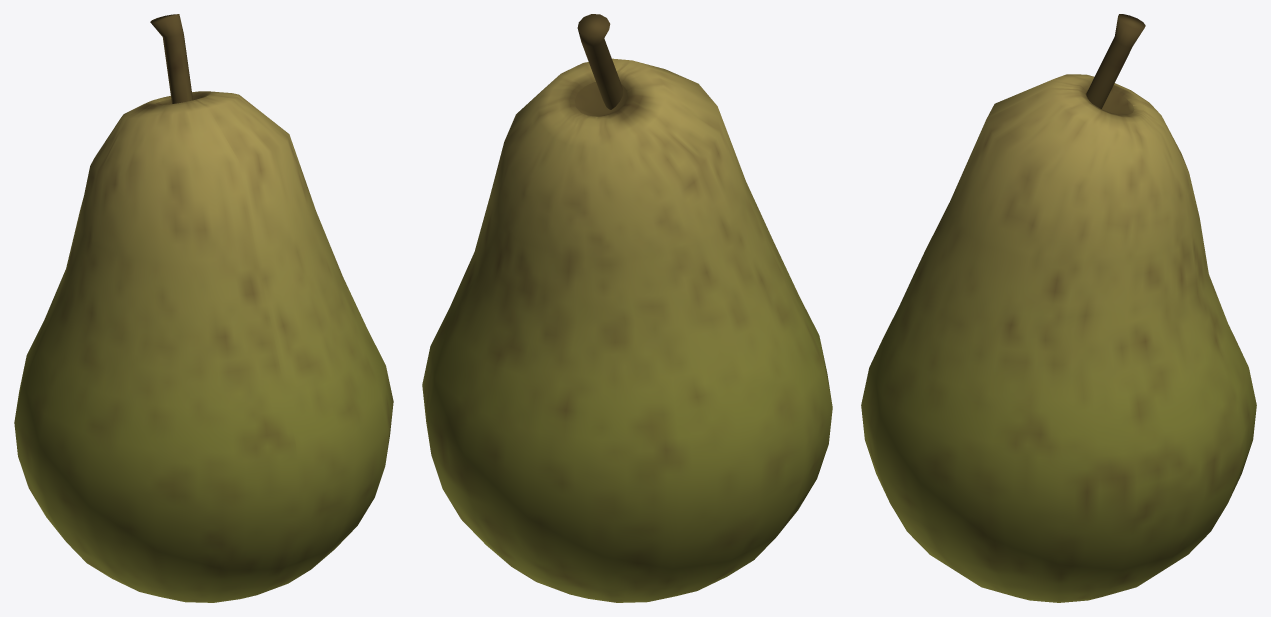
The model's file is SM_Pear_01.fbx.
3 views of the same model, side by side, from view 1: azimuth 30°, elevation 25°; view 2: azimuth 150°, elevation 25°; view 3: azimuth 270°, elevation 25° (orthographic). The views are drawn at different scales.
Parts seen in each view (by area): view 1: SM_Pear_01_LOD0; view 2: SM_Pear_01_LOD0; view 3: SM_Pear_01_LOD0.
Part boxes in pixels (x1=…): SM_Pear_01_LOD0: x1=14, y1=14, x2=393, y2=602; SM_Pear_01_LOD0: x1=422, y1=14, x2=832, y2=602; SM_Pear_01_LOD0: x1=861, y1=14, x2=1256, y2=602.
Size of the model in its own units: 10.09 by 10.09 by 15.95.
